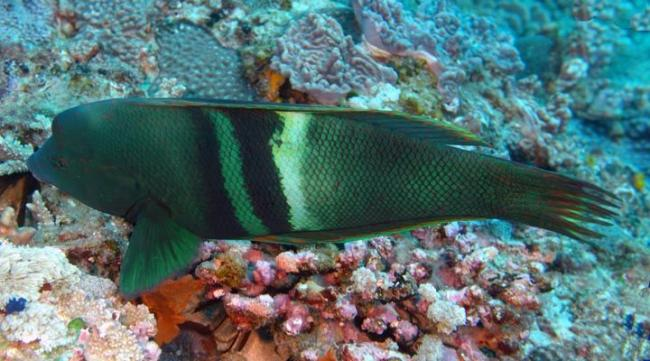fish: (27, 98, 622, 296)
